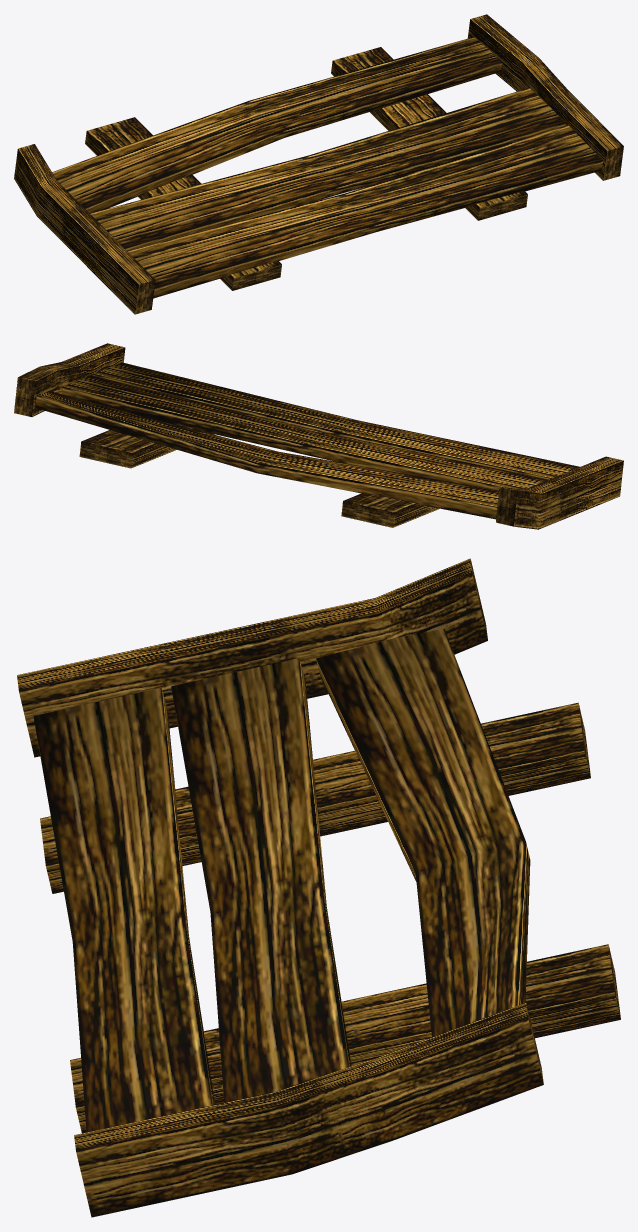
The model's file is RM_WPOOL_PLATFORM04.fbx.
The picture shows the model from 3 angles, top to bottom: view 1: azimuth 30°, elevation 25°; view 2: azimuth 150°, elevation 25°; view 3: azimuth 270°, elevation 25°; orthographic projection. The views are drawn at different scales.
Parts seen in each view (by area): view 1: RM_WPOOL_PLATFORM04; view 2: RM_WPOOL_PLATFORM04; view 3: RM_WPOOL_PLATFORM04.
Boxes of the visible parts, <box> form: RM_WPOOL_PLATFORM04: <box>14,14,623,314</box>; RM_WPOOL_PLATFORM04: <box>14,343,623,529</box>; RM_WPOOL_PLATFORM04: <box>17,558,620,1217</box>.
Bounding box in the file's own units: 36347 × 6628 × 18706.
1 material, 1 textured.
